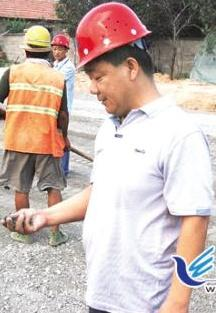boots: (48, 228, 68, 244), (10, 230, 33, 243)
hard-hat: (75, 0, 152, 70)
vest: (0, 58, 64, 153)
